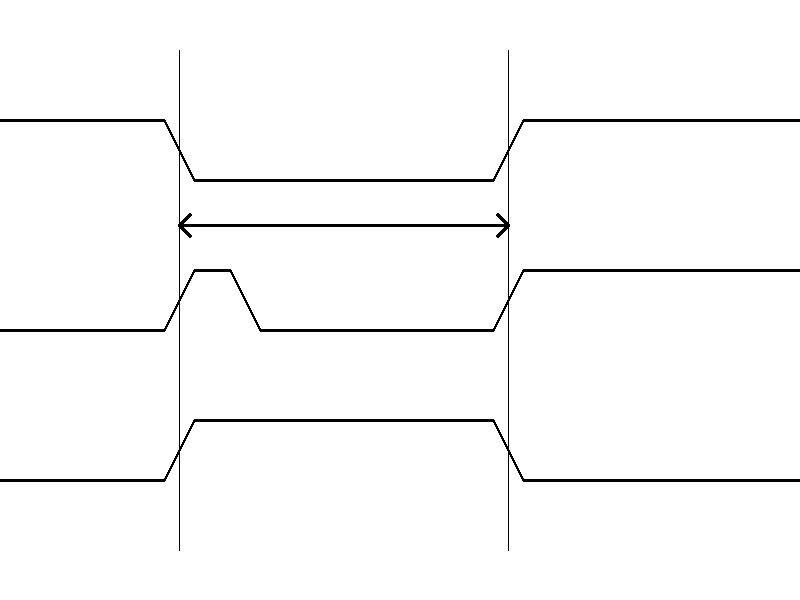double_arrow: (179, 210, 508, 240)
